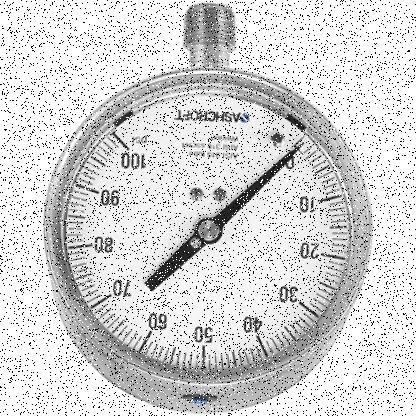needle: (211, 139, 307, 229)
